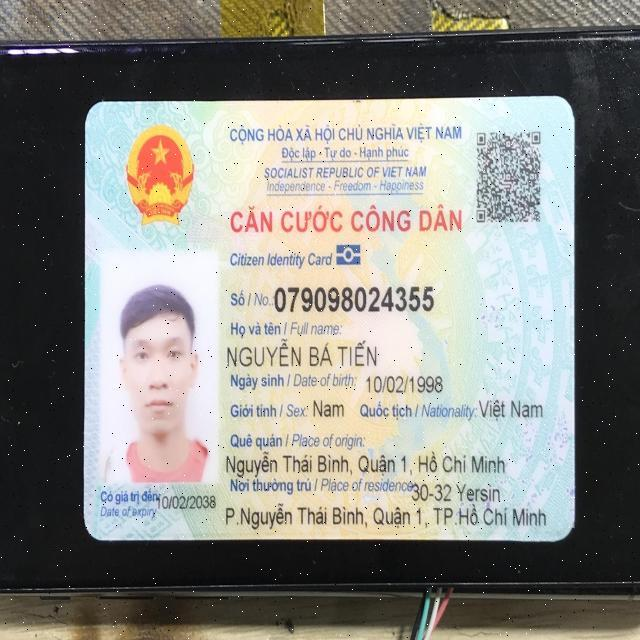current_place: (223, 503, 556, 531), (410, 476, 502, 504)
dob: (365, 373, 447, 392)
expire_date: (151, 492, 222, 511)
gender: (310, 395, 350, 421)
id: (269, 278, 454, 323)
name: (224, 338, 380, 370)
nationality: (479, 394, 547, 423)
origin_place: (221, 453, 509, 476)
qr: (472, 126, 547, 230)
